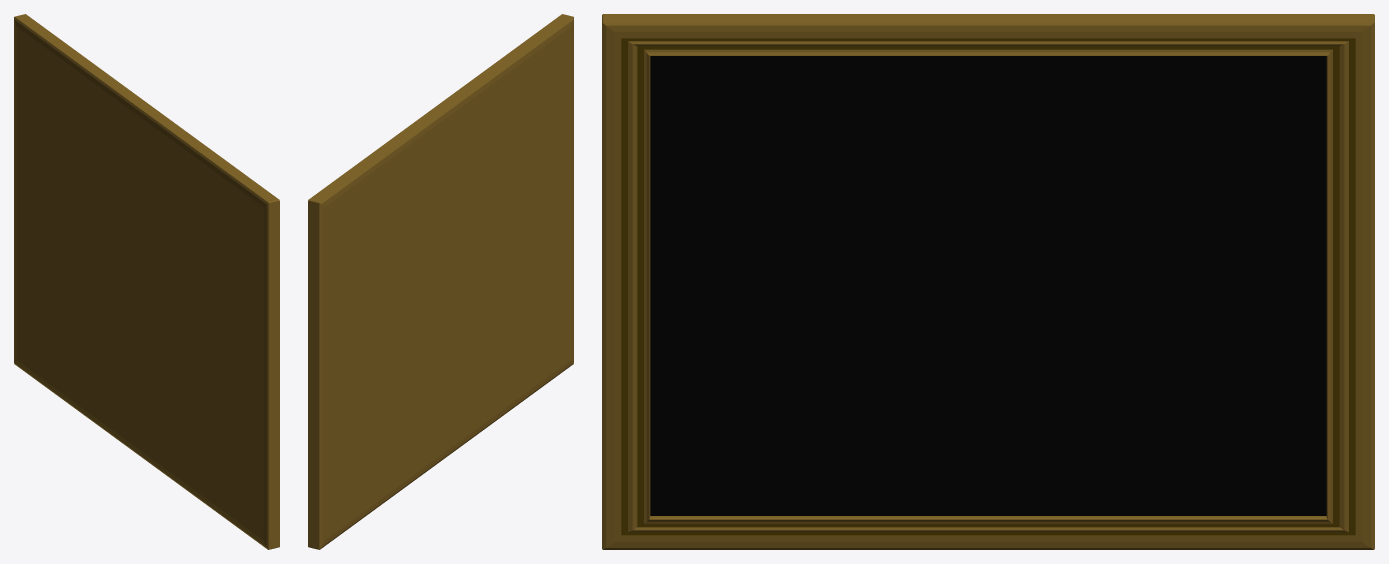
Rendered from FramesV1.fbx.
3 views of the same model, side by side, from view 1: azimuth 30°, elevation 25°; view 2: azimuth 150°, elevation 25°; view 3: azimuth 270°, elevation 25° (orthographic). The views are drawn at different scales.
Visible parts, largest first — view 1: Cube; view 2: Cube; view 3: Cube.001, Cube, Cube.002.
Part boxes in pixels (<box>): Cube: <box>14,14,279,549</box>; Cube: <box>308,14,573,549</box>; Cube.001: <box>650,56,1326,515</box>; Cube: <box>602,14,1374,549</box>; Cube.002: <box>621,38,1355,535</box>.
Bounding box in the file's own units: 19.1 × 432 × 573.
